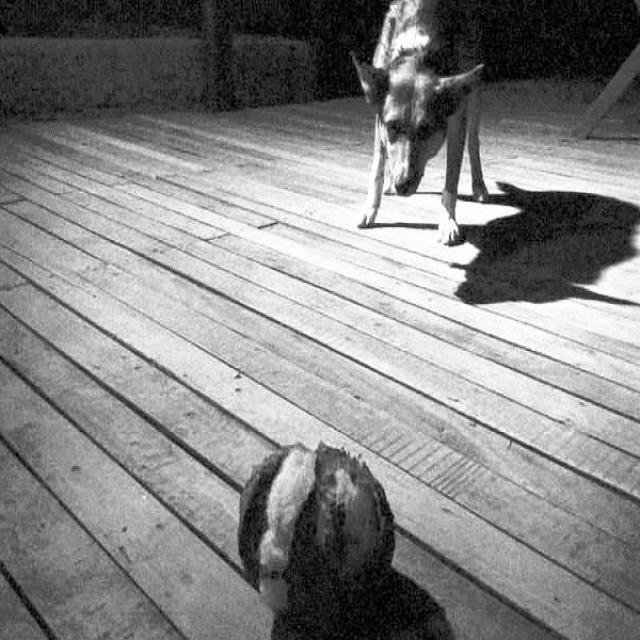Dog: (334, 0, 520, 275)
